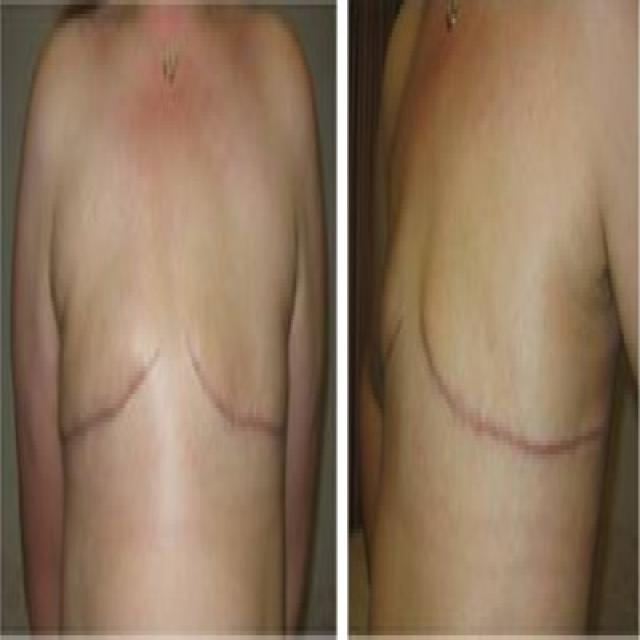Seno herido: (420, 166, 586, 514), (52, 199, 169, 489), (173, 199, 289, 489), (373, 173, 413, 518)
